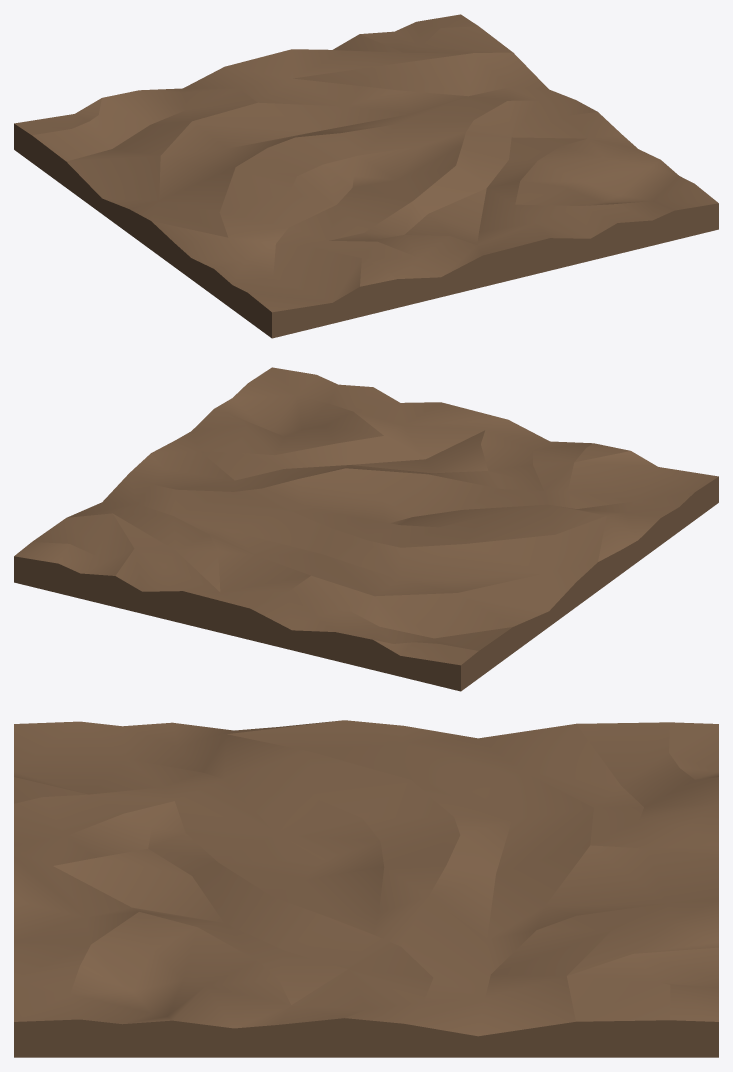
The model's file is Ground_Base_A.glb.
3 renders of one model, top to bottom at view 1: azimuth 30°, elevation 25°; view 2: azimuth 150°, elevation 25°; view 3: azimuth 270°, elevation 25°, orthographic. The views are drawn at different scales.
Visible parts, largest first — view 1: Ground_Base_A; view 2: Ground_Base_A; view 3: Ground_Base_A.
Boxes of the visible parts, x1=… form: Ground_Base_A: x1=14, y1=14, x2=718, y2=338; Ground_Base_A: x1=14, y1=367, x2=718, y2=691; Ground_Base_A: x1=14, y1=720, x2=718, y2=1057.
Size of the model in its own units: 1.47 by 0.1218 by 1.47.
